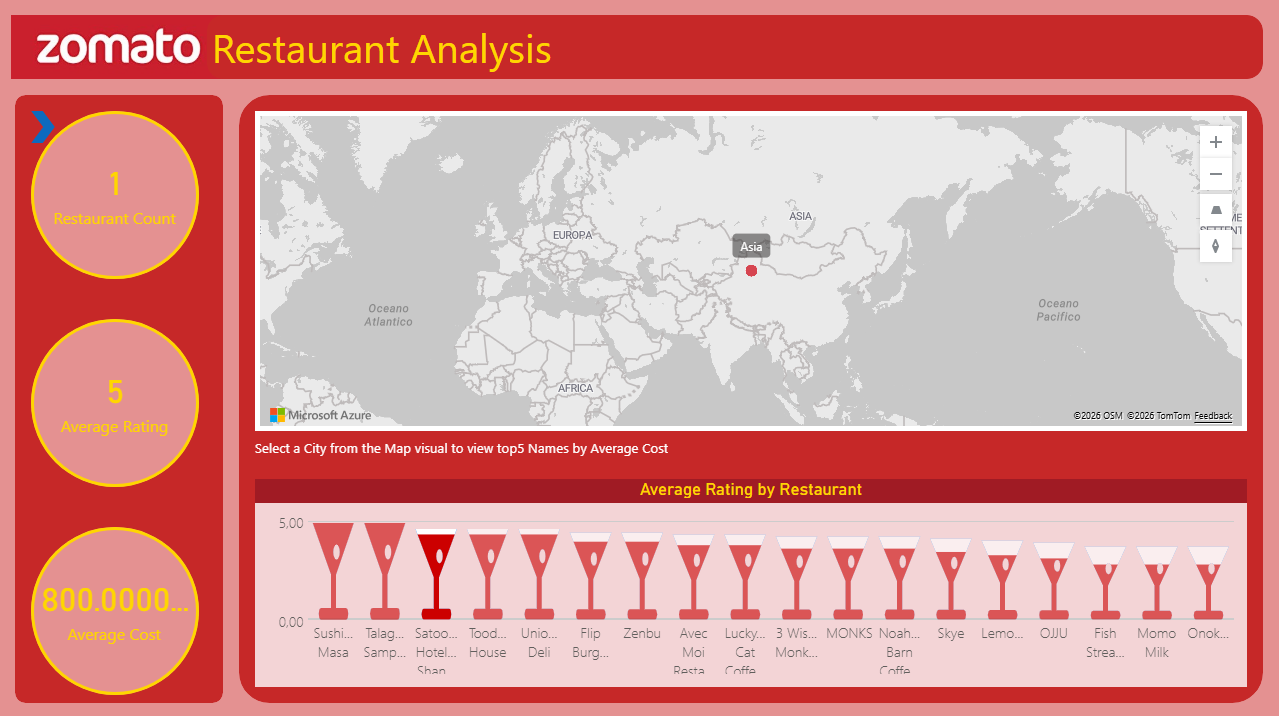

What the dashboard file says about the page in this screenshot:
{"tool":"powerbi","page":{"name":"Overview","canvas":[1280,720],"ordinal":0},"visuals":[{"type":"shape","box":[16,96,208,608],"z":0},{"type":"shape","box":[240,96,1024,608],"z":1000},{"type":"azureMap","fields":{"Category":["Restaurants.Geo Gerarchia.Continent","Restaurants.Geo Gerarchia.Country","Restaurants.Geo Gerarchia.City"],"Size":["KPIs.Restaurant Count"],"Series":["Country.Continent"]},"box":[256,112,992,320],"z":2000},{"type":"PBI_CV_73744D90_4DC9_4F18_8BA5_EE8FA5C98035","title":"Average Rating by Restaurant ","fields":{"Category":["Restaurants.Restaurant Name"],"Values":["KPIs.Average Rating"]},"box":[256,480,992,208],"z":3000},{"type":"shape","box":[32,320,168,168],"z":4000},{"type":"shape","box":[32,112,168,168],"z":5000},{"type":"shape","box":[32,528,168,168],"z":6000},{"type":"advanceCardE03760C5AB684758B56AA29F9E6C257B","fields":{"mainMeasure":["KPIs.Restaurant Count"]},"box":[32,112,168,168],"z":7000},{"type":"advanceCardE03760C5AB684758B56AA29F9E6C257B","fields":{"mainMeasure":["KPIs.Average Rating"]},"box":[32,320,168,168],"z":8000},{"type":"advanceCardE03760C5AB684758B56AA29F9E6C257B","fields":{"mainMeasure":["KPIs.Average Cost"]},"box":[32,528,168,168],"z":9000},{"type":"shape","box":[256,432,992,32],"z":10000},{"type":"image","box":[0,16,240,64],"z":11000},{"type":"shape","box":[208,16,1056,64],"z":12000},{"type":"shape","box":[32,112,24,32],"z":13000}]}

Visuals, with their boxes in screenshot pixels (x1, y1, x2, y2), scaled from the page's 1280x720 canvas onto the 1279x716 screenshot:
shape: (x1=16, y1=95, x2=224, y2=700)
shape: (x1=240, y1=95, x2=1263, y2=700)
azureMap - Restaurants.Geo Gerarchia.Continent x Restaurants.Geo Gerarchia.Country: (x1=256, y1=111, x2=1247, y2=430)
"Average Rating by Restaurant " PBI_CV_73744D90_4DC9_4F18_8BA5_EE8FA5C98035: (x1=256, y1=477, x2=1247, y2=684)
shape: (x1=32, y1=318, x2=200, y2=485)
shape: (x1=32, y1=111, x2=200, y2=278)
shape: (x1=32, y1=525, x2=200, y2=692)
advanceCardE03760C5AB684758B56AA29F9E6C257B - KPIs.Restaurant Count: (x1=32, y1=111, x2=200, y2=278)
advanceCardE03760C5AB684758B56AA29F9E6C257B - KPIs.Average Rating: (x1=32, y1=318, x2=200, y2=485)
advanceCardE03760C5AB684758B56AA29F9E6C257B - KPIs.Average Cost: (x1=32, y1=525, x2=200, y2=692)
shape: (x1=256, y1=430, x2=1247, y2=461)
image: (x1=0, y1=16, x2=240, y2=80)
shape: (x1=208, y1=16, x2=1263, y2=80)
shape: (x1=32, y1=111, x2=56, y2=143)
